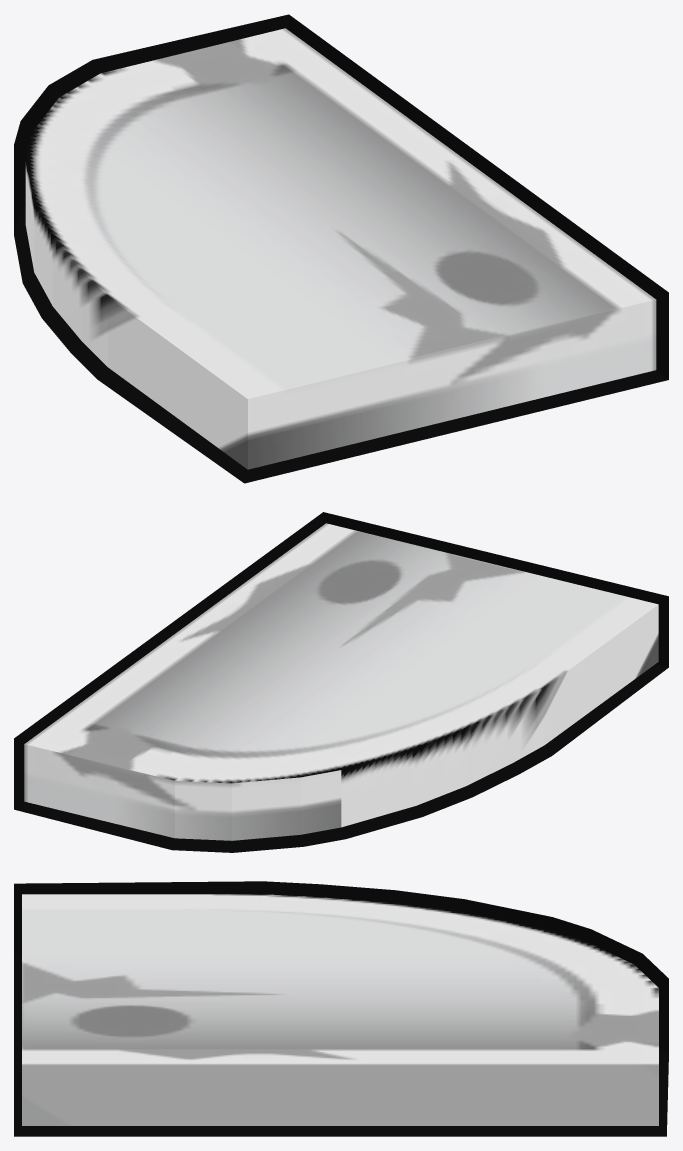
Rendered from Building_AncientShower_Things_Building_Ancient_House_CrackedShower.glb.
3 renders of one model, top to bottom at view 1: azimuth 30°, elevation 25°; view 2: azimuth 150°, elevation 25°; view 3: azimuth 270°, elevation 25°, orthographic. The views are drawn at different scales.
Visible parts, largest first — view 1: Body, Outline; view 2: Body, Outline; view 3: Body, Outline.
Boxes of the visible parts, left/top/right/bottom form: Body: left=25, top=28, right=656, bottom=469; Outline: left=14, top=14, right=668, bottom=483; Body: left=24, top=523, right=658, bottom=840; Outline: left=14, top=512, right=668, bottom=852; Body: left=22, top=894, right=658, bottom=1125; Outline: left=14, top=881, right=668, bottom=1136.
Bounding box in the file's own units: 0.9546 × 0.1946 × 1.48.
2 materials, 1 textured.
